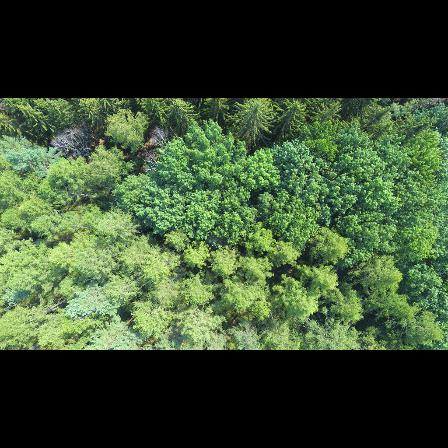Dead: (51, 123, 93, 160), (151, 123, 170, 147)
